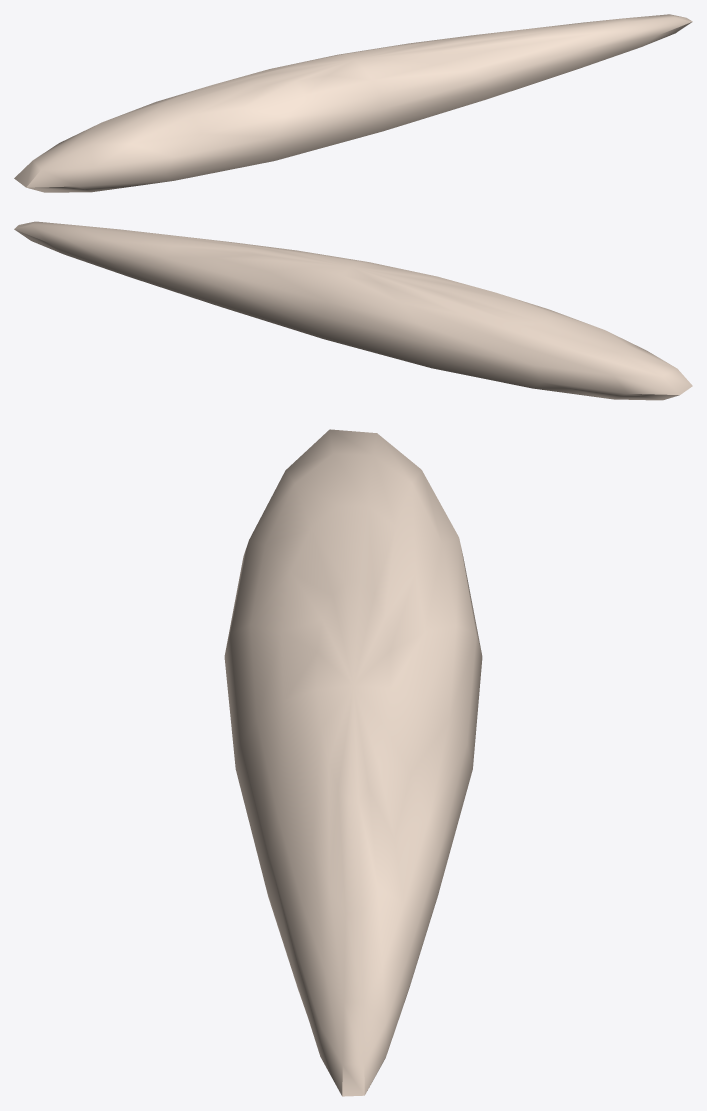
Rendered from lantern_eel_fillet.glb.
3 views of the same model, one above another, from view 1: azimuth 30°, elevation 25°; view 2: azimuth 150°, elevation 25°; view 3: azimuth 270°, elevation 25° (orthographic). The views are drawn at different scales.
Parts seen in each view (by area): view 1: lantern_eel_fillet; view 2: lantern_eel_fillet; view 3: lantern_eel_fillet.
Part boxes in pixels (<box>): lantern_eel_fillet: <box>14,14,692,192</box>; lantern_eel_fillet: <box>14,221,692,400</box>; lantern_eel_fillet: <box>224,429,482,1096</box>.
Size of the model in its own units: 0.18 by 0.015 by 0.03.
